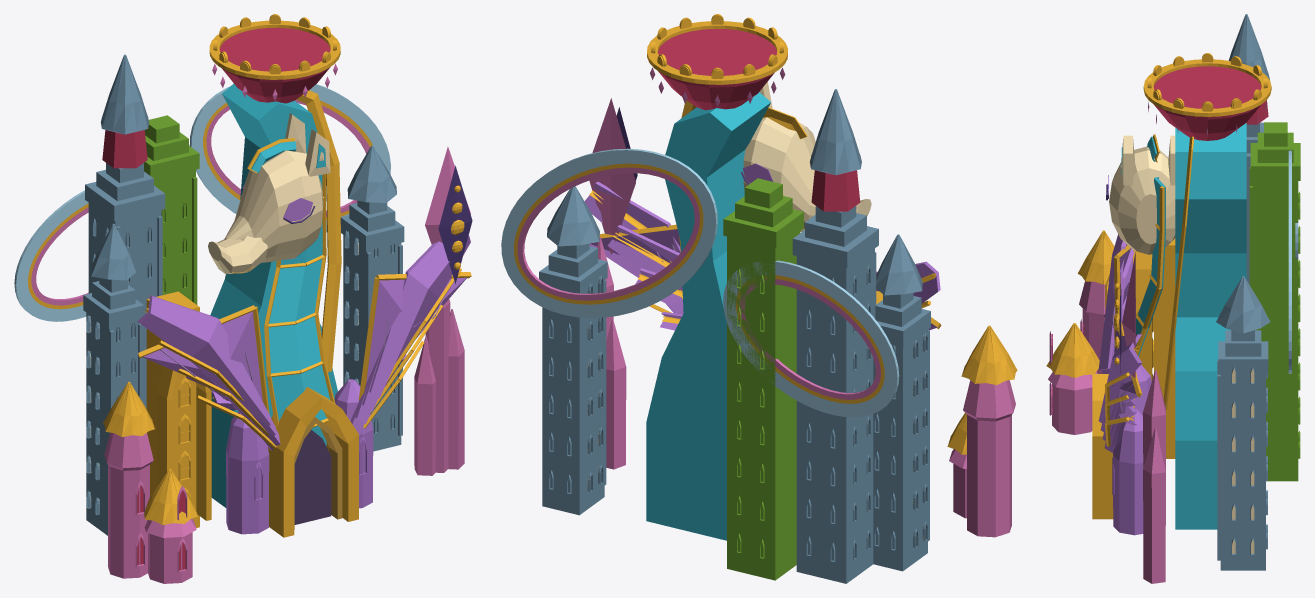
File: building.glb
3 views of the same model, side by side, from view 1: azimuth 30°, elevation 25°; view 2: azimuth 150°, elevation 25°; view 3: azimuth 270°, elevation 25° (orthographic). The views are drawn at different scales.
Parts seen in each view (by area): view 1: 10_R3A_Vegas_LayeredSkyline, 10_R3A_Vegas_SculptedEquineCasino, 10_R3A_Vegas_OverlappingFoldedWings; view 2: 10_R3A_Vegas_LayeredSkyline, 10_R3A_Vegas_SculptedEquineCasino, 10_R3A_Vegas_OverlappingFoldedWings; view 3: 10_R3A_Vegas_LayeredSkyline, 10_R3A_Vegas_SculptedEquineCasino, 10_R3A_Vegas_OverlappingFoldedWings.
Part boxes in pixels (box(x1,y1,x2,y2)): 10_R3A_Vegas_LayeredSkyline: box(14, 54, 472, 583); 10_R3A_Vegas_SculptedEquineCasino: box(208, 14, 373, 537); 10_R3A_Vegas_OverlappingFoldedWings: box(137, 235, 471, 450); 10_R3A_Vegas_LayeredSkyline: box(501, 89, 1017, 583); 10_R3A_Vegas_SculptedEquineCasino: box(646, 14, 871, 540); 10_R3A_Vegas_OverlappingFoldedWings: box(584, 181, 941, 330); 10_R3A_Vegas_LayeredSkyline: box(1046, 14, 1300, 583); 10_R3A_Vegas_SculptedEquineCasino: box(1092, 53, 1271, 535); 10_R3A_Vegas_OverlappingFoldedWings: box(1098, 234, 1142, 452).
Size of the model in its own units: 1.31 by 1.45 by 0.7765.
